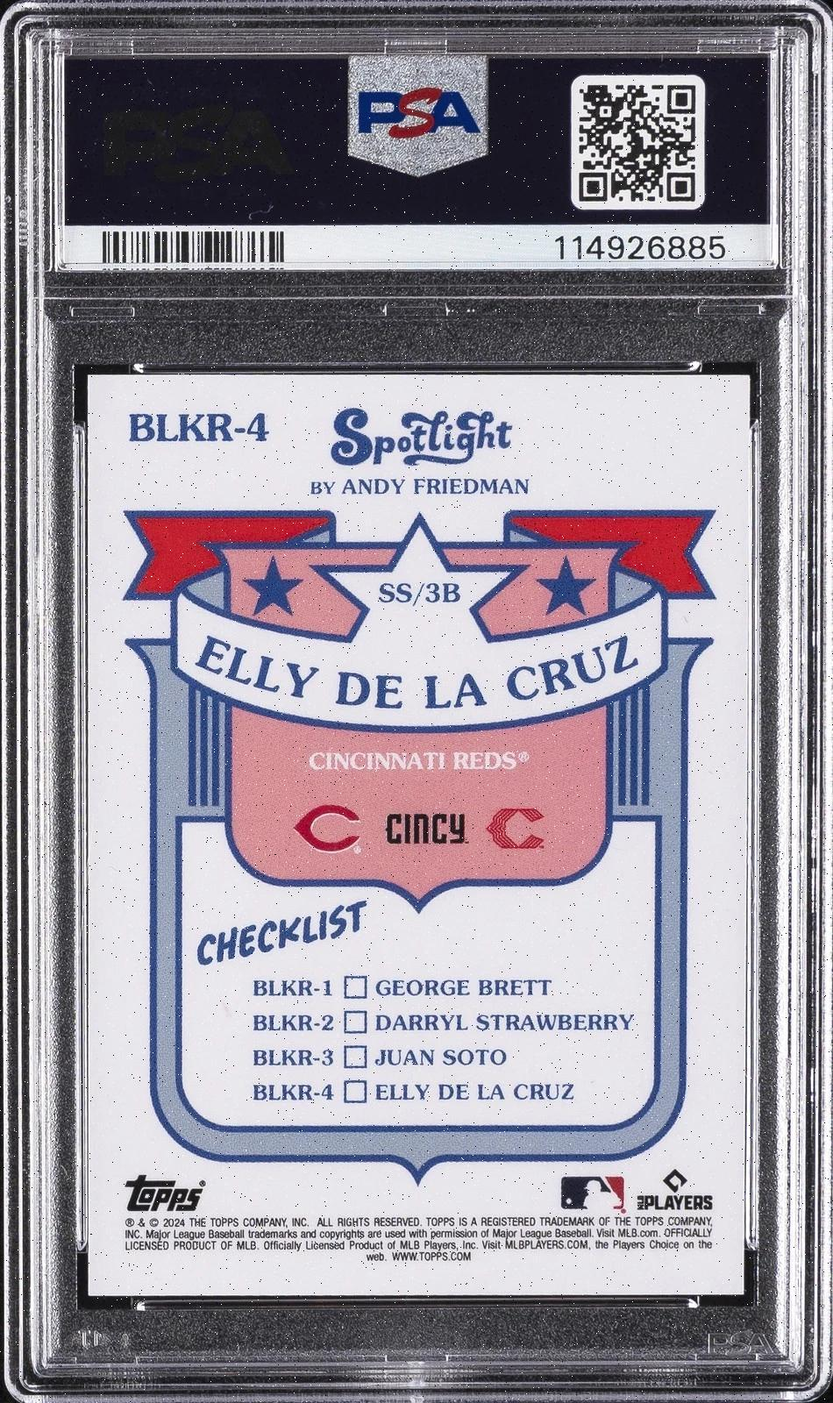card-2UtV: (87, 374, 751, 1297)
